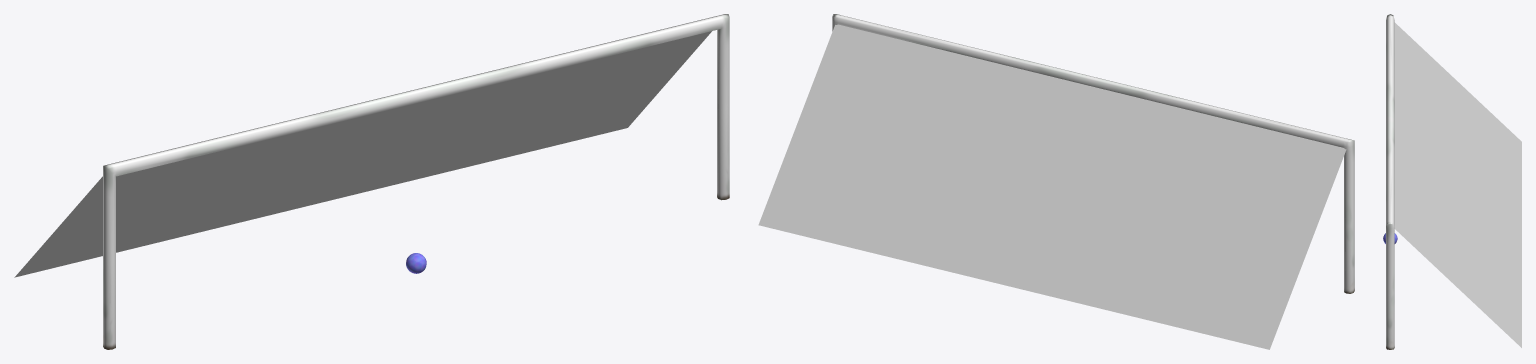
The model's file is bola.fbx.
3 renders of one model, left to right at view 1: azimuth 30°, elevation 25°; view 2: azimuth 150°, elevation 25°; view 3: azimuth 270°, elevation 25°, orthographic. The views are drawn at different scales.
Visible parts, largest first — view 1: Plane, Traves; view 2: Plane, Traves; view 3: Plane, Traves.
Boxes of the visible parts, x1,y1,x2,y2 form: Plane: (14, 31, 711, 277); Traves: (103, 14, 729, 349); Plane: (758, 24, 1346, 349); Traves: (832, 14, 1354, 293); Plane: (1394, 22, 1521, 347); Traves: (1386, 14, 1394, 349).
Bounding box in the file's own units: 7.19 × 2.01 × 2.01.
